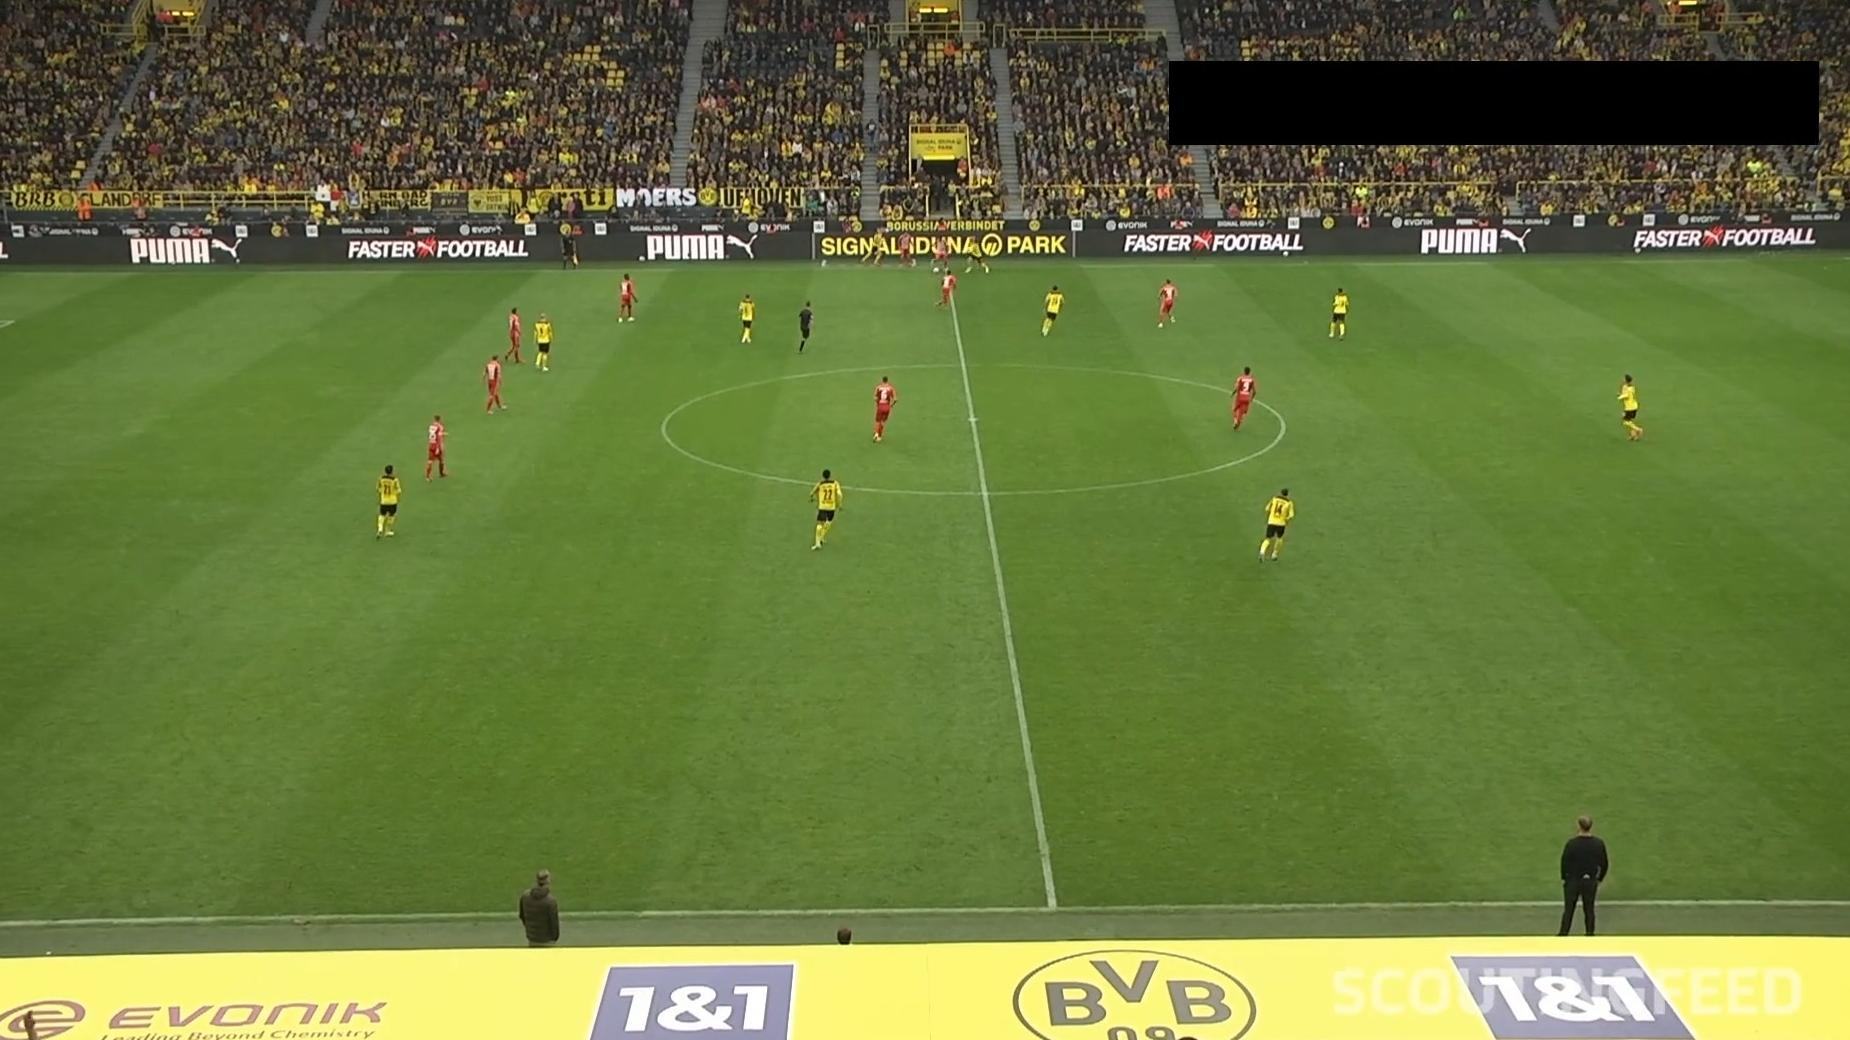ball: (932, 265, 941, 274)
